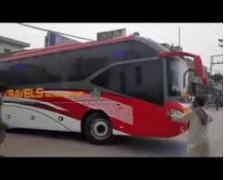bus: (0, 31, 205, 146)
